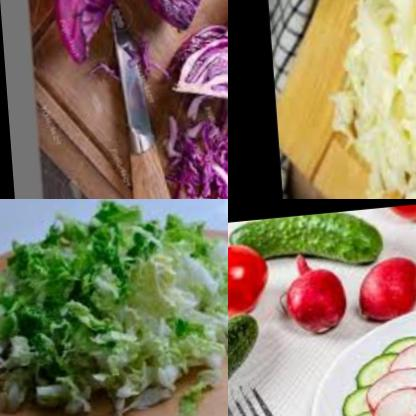cabbage: (312, 0, 416, 199), (40, 0, 156, 67), (127, 0, 228, 68), (167, 29, 228, 134), (157, 128, 228, 199)
cucumber: (228, 210, 387, 278), (228, 305, 266, 416), (330, 347, 387, 416), (359, 304, 416, 365)
rediska: (276, 256, 351, 346), (345, 257, 416, 326), (366, 359, 416, 416), (383, 329, 416, 378), (389, 206, 416, 243)
salad: (0, 199, 228, 416)
tomato: (228, 239, 270, 320)
